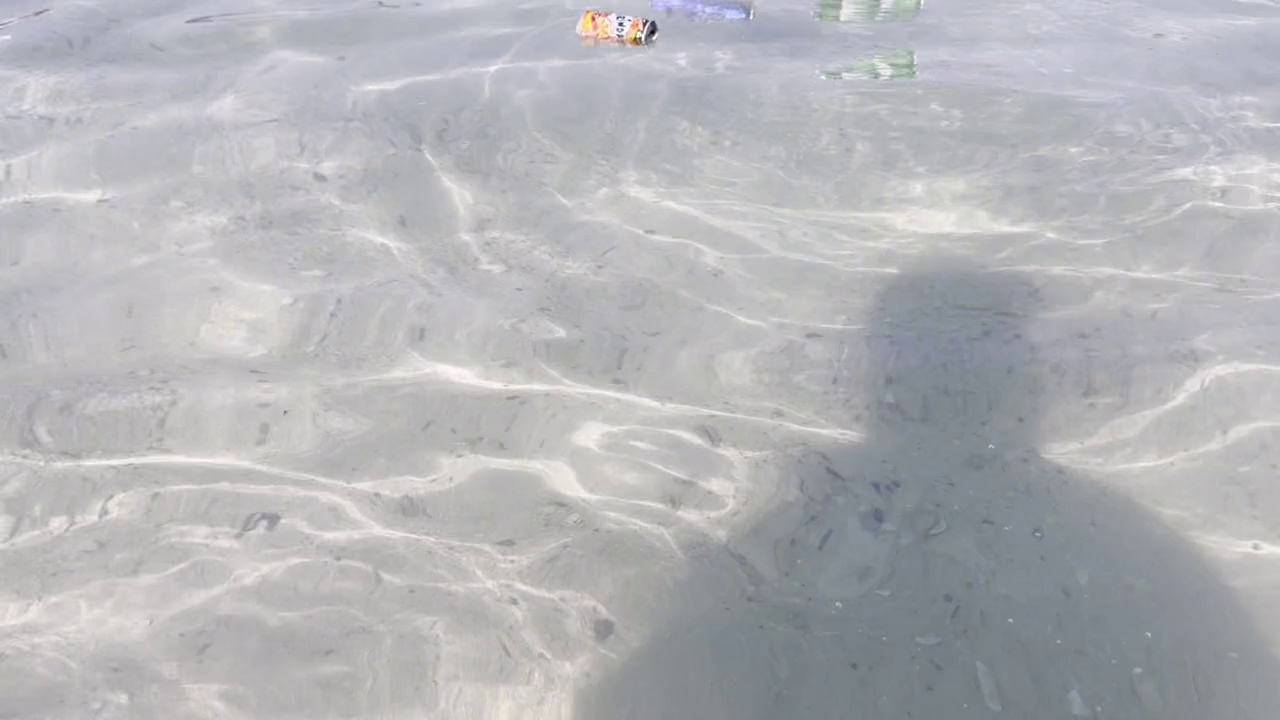debris: (572, 2, 661, 54)
